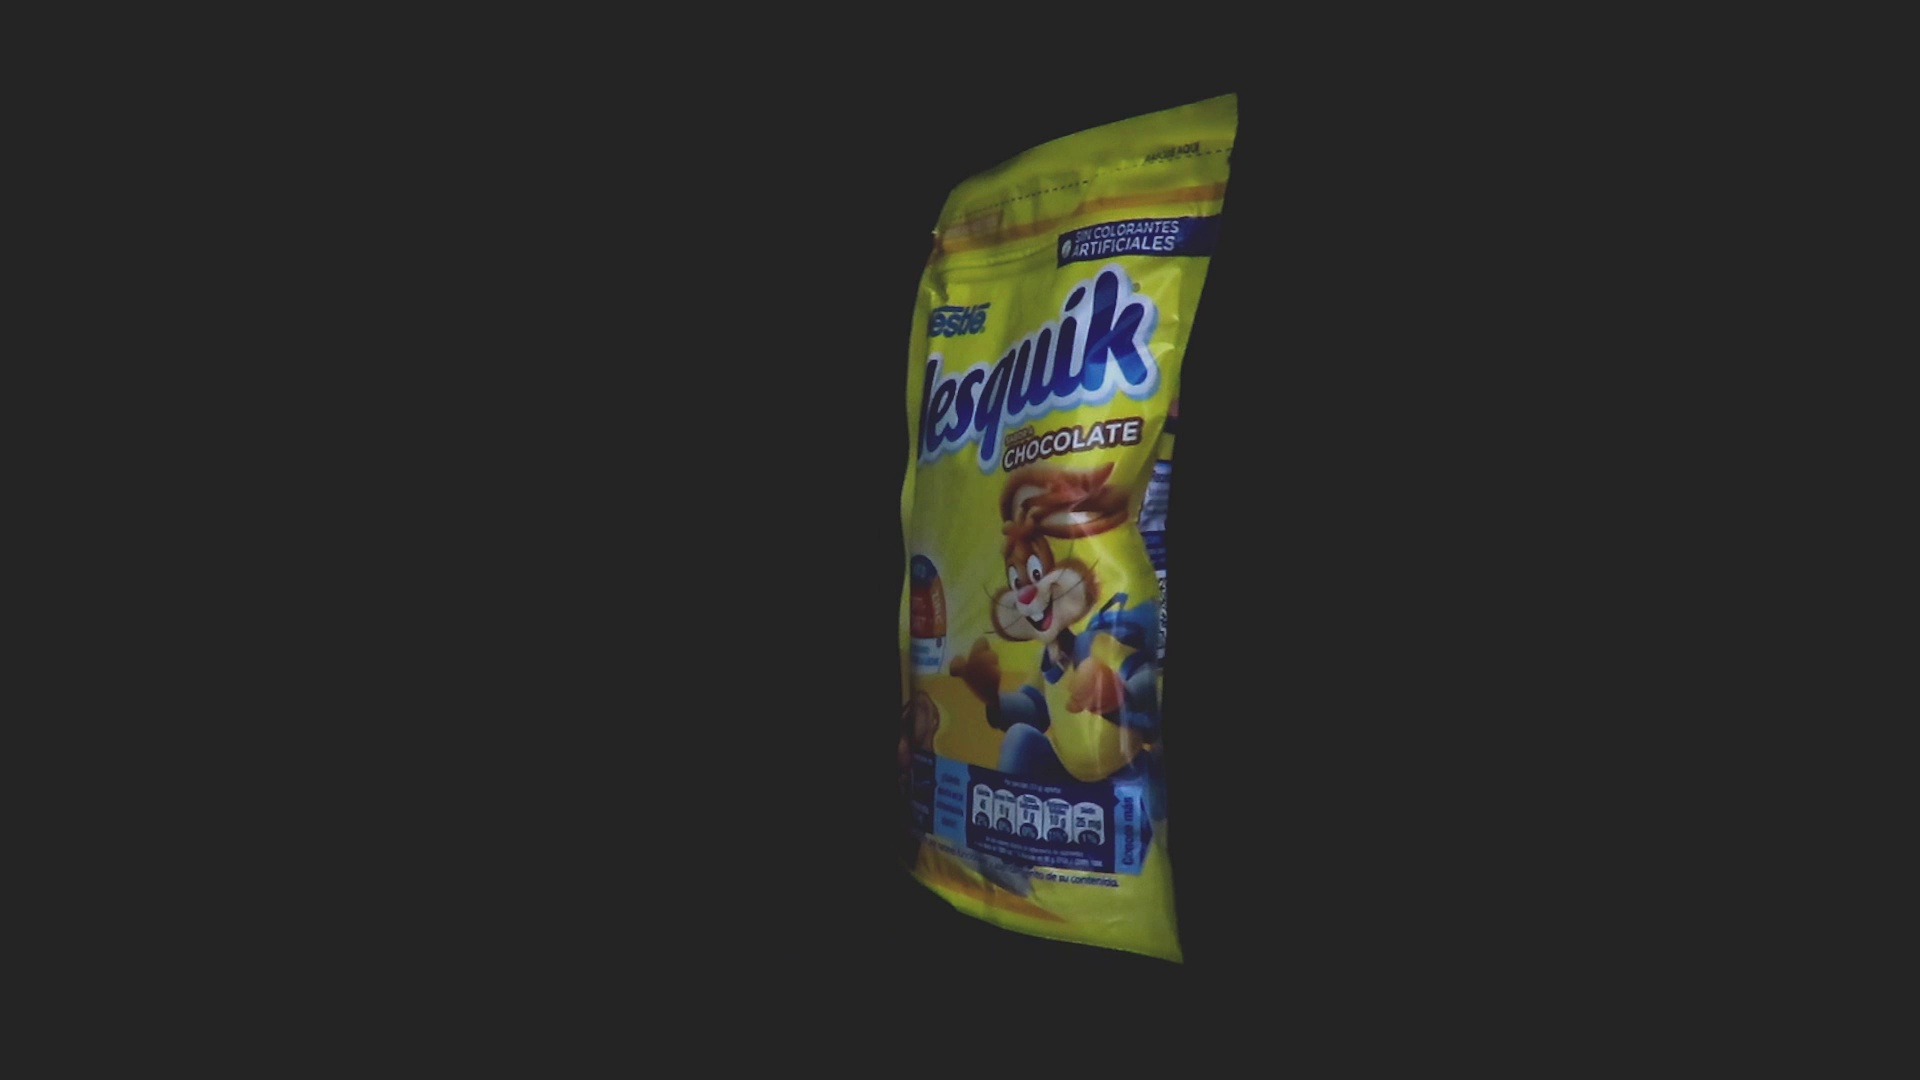COL0170303DYP20000: (893, 87, 1245, 971)
